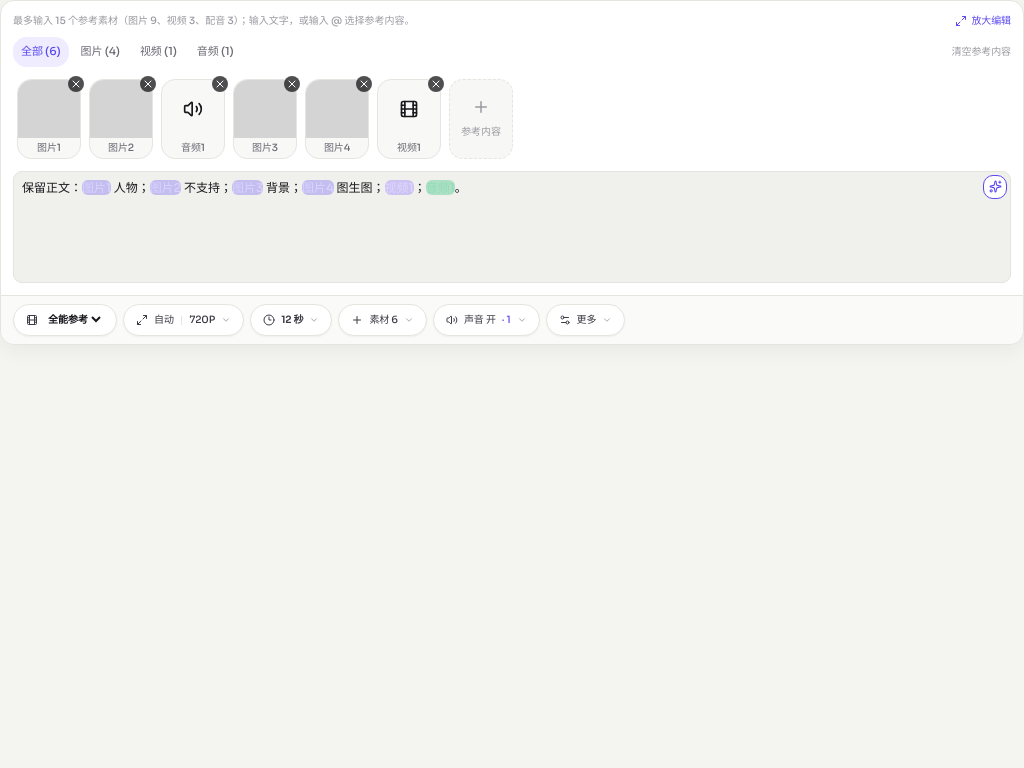
portrait reference removal consent › rejects stale confirmation after expired changes
Click the button with aria-label "高级设置".
click(586, 320)  # box [546,304,625,336]
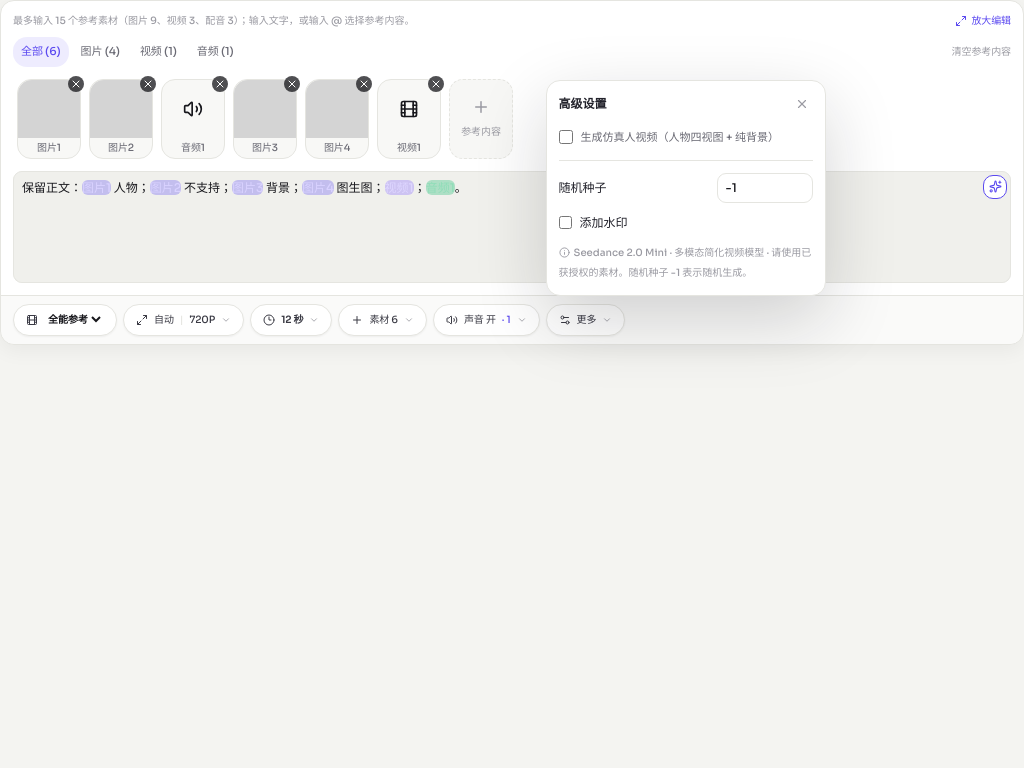
Click the checkbox labelled "生成仿真人视频（人物四视图 + 纯背景）".
click(566, 137)  # box [559,130,573,144]
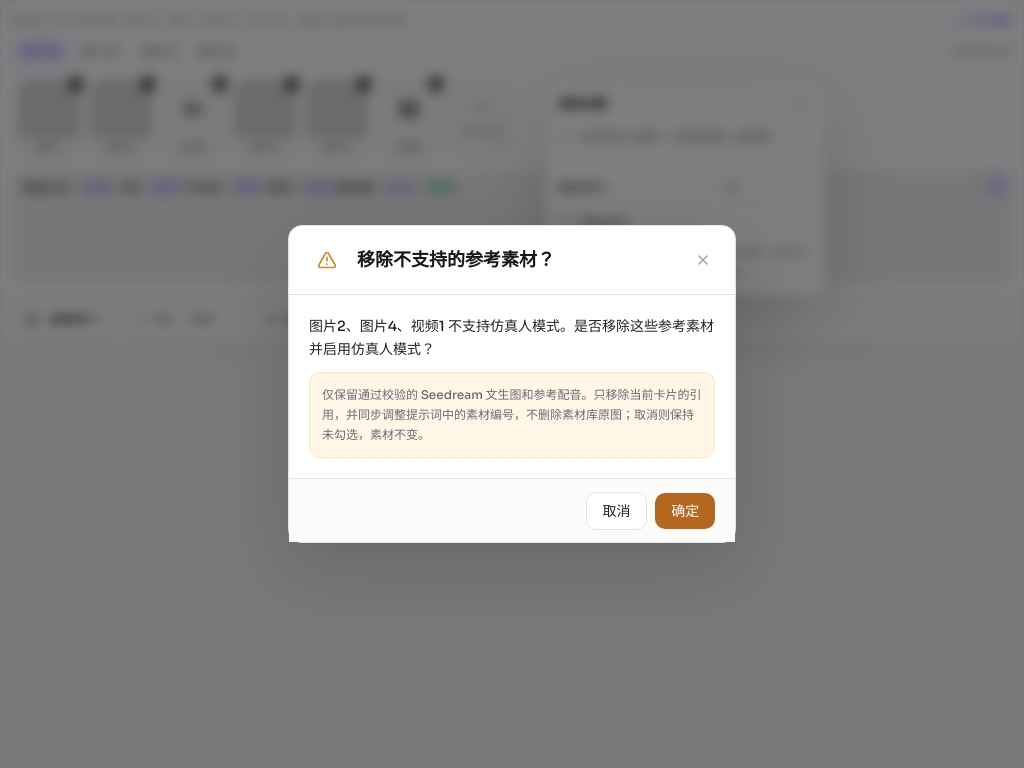
Click the button "确定".
click(685, 511)  # box [655,493,715,529]
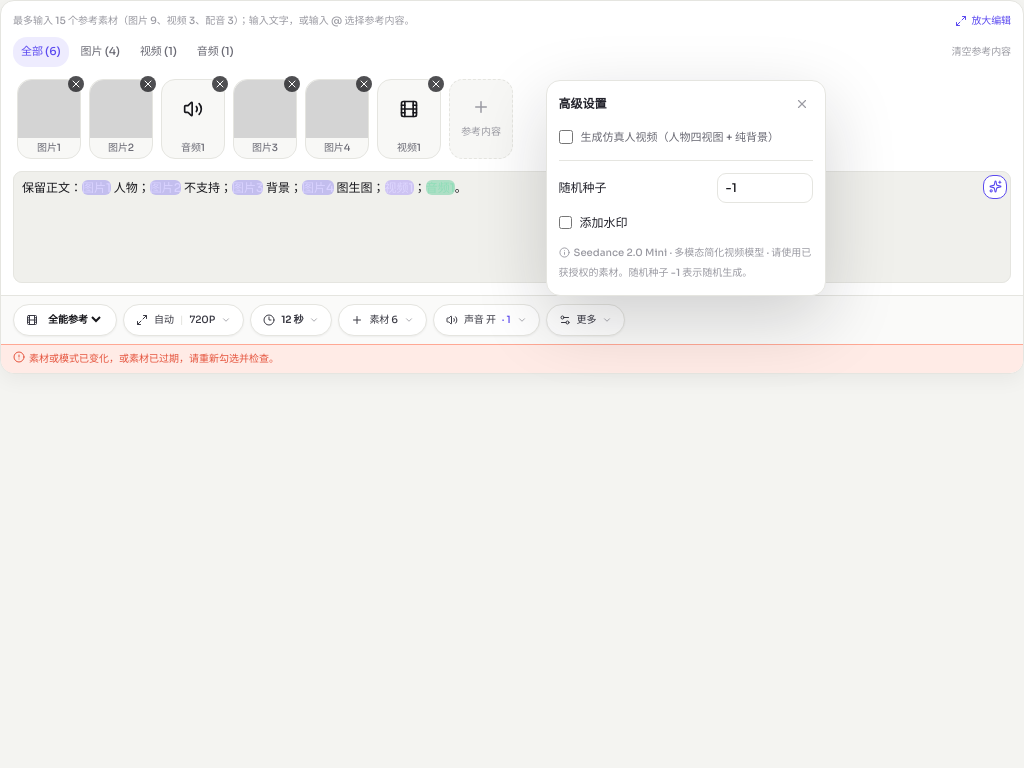
Expected: the message shows "请重新勾选并检查", [29,352,279,365]
